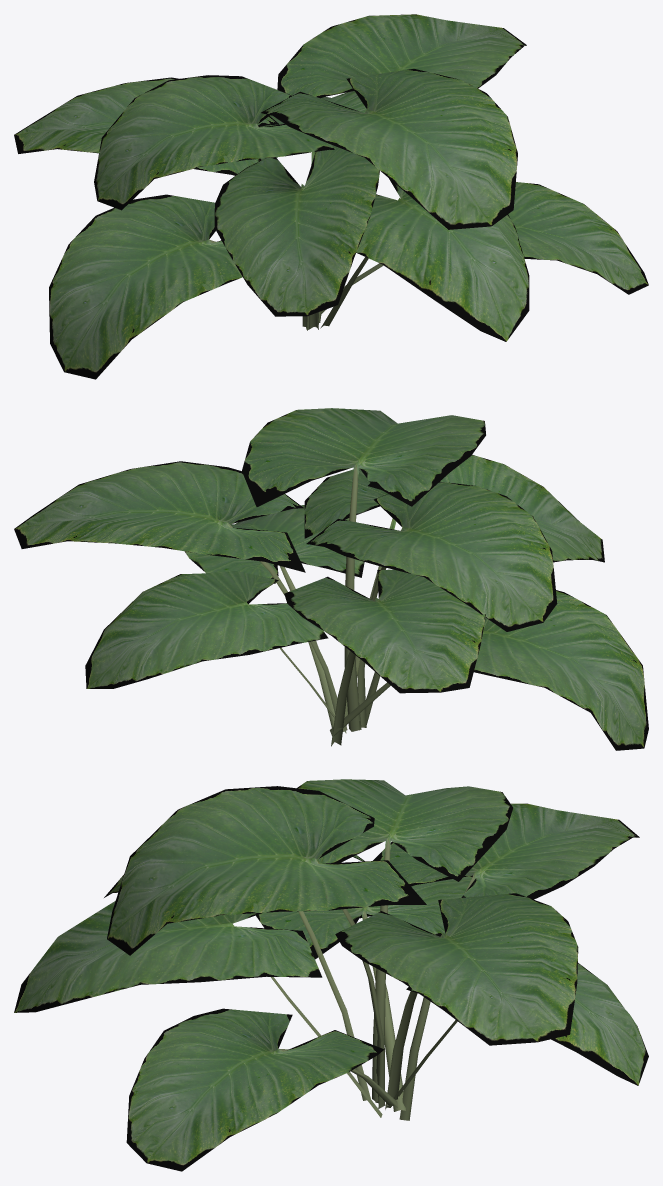
Rendered from taro_small.glb.
3 renders of one model, top to bottom at view 1: azimuth 30°, elevation 25°; view 2: azimuth 150°, elevation 25°; view 3: azimuth 270°, elevation 25°, orthographic. The views are drawn at different scales.
Parts seen in each view (by area): view 1: Object_2; view 2: Object_2; view 3: Object_2.
Boxes of the visible parts, box(x1,y1,x2,y2) form: Object_2: box(14, 14, 648, 379); Object_2: box(14, 408, 648, 750); Object_2: box(14, 779, 648, 1171).
Size of the model in its own units: 2.45 by 1.16 by 2.27.
Materials: 1 (1 with a texture image).
